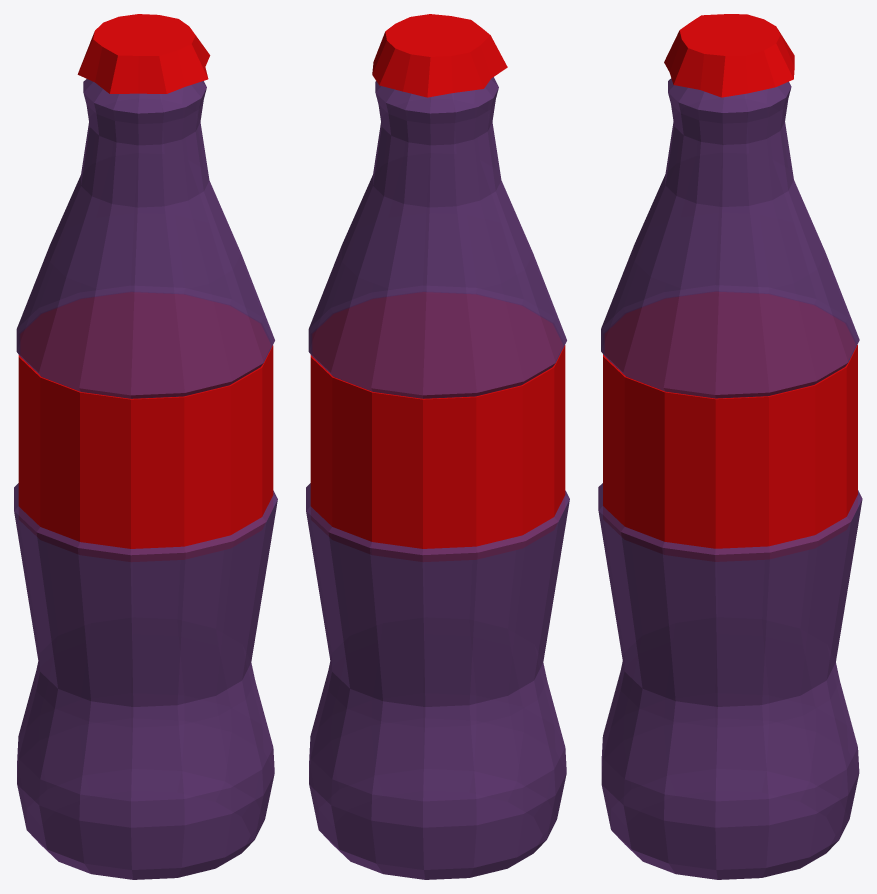
Rendered from Кола_2_Текстура_Вишня.fbx.
3 renders of one model, left to right at view 1: azimuth 30°, elevation 25°; view 2: azimuth 150°, elevation 25°; view 3: azimuth 270°, elevation 25°, orthographic.
Parts seen in each view (by area): view 1: Cylinder, Cylinder.001, Cylinder.002; view 2: Cylinder, Cylinder.001, Cylinder.002; view 3: Cylinder, Cylinder.001, Cylinder.002.
Boxes of the visible parts, x1=… form: Cylinder: x1=14, y1=79, x2=277, y2=879; Cylinder.001: x1=18, y1=292, x2=273, y2=561; Cylinder.002: x1=77, y1=14, x2=210, y2=93; Cylinder: x1=306, y1=77, x2=569, y2=879; Cylinder.001: x1=310, y1=292, x2=565, y2=561; Cylinder.002: x1=372, y1=14, x2=507, y2=97; Cylinder: x1=598, y1=78, x2=862, y2=879; Cylinder.001: x1=603, y1=292, x2=857, y2=561; Cylinder.002: x1=664, y1=14, x2=794, y2=97.
Bounding box in the file's own units: 133 × 442 × 132.
